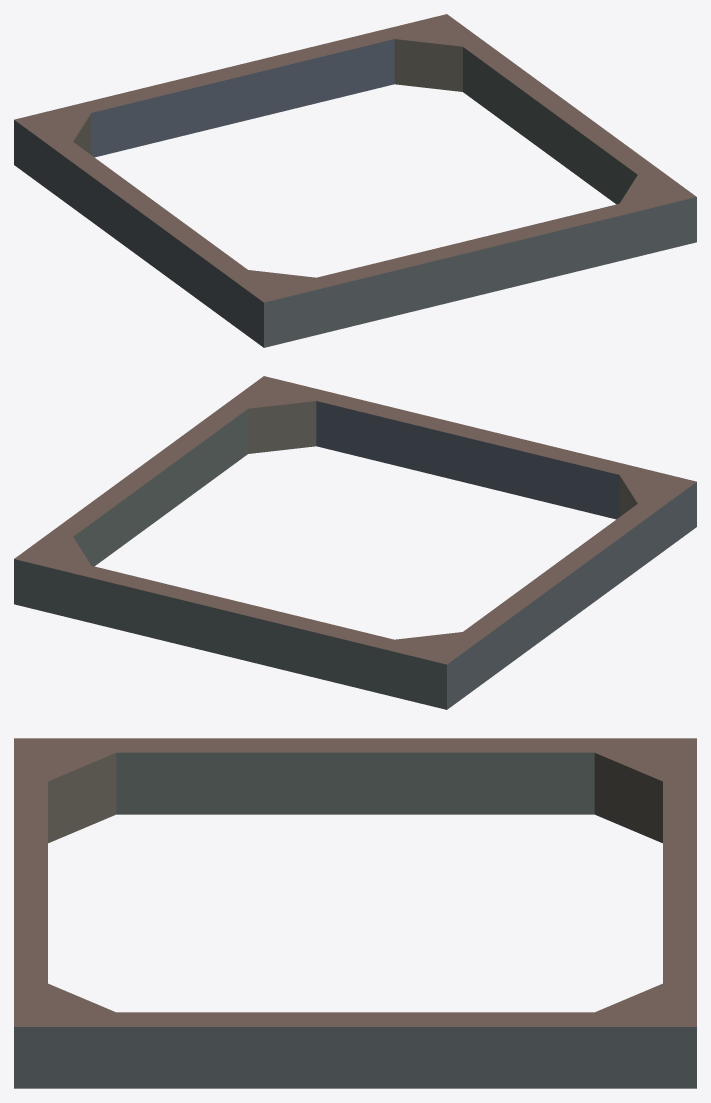
Rendered from Floor_hole_beveled.fbx.
3 views of the same model, one above another, from view 1: azimuth 30°, elevation 25°; view 2: azimuth 150°, elevation 25°; view 3: azimuth 270°, elevation 25° (orthographic). The views are drawn at different scales.
Parts seen in each view (by area): view 1: Cube; view 2: Cube; view 3: Cube.
Part boxes in pixels (x1,y1,x2,y2): Cube: (14, 14, 696, 347); Cube: (14, 376, 696, 709); Cube: (14, 738, 696, 1088).
Size of the model in its own units: 100 by 10 by 100.
